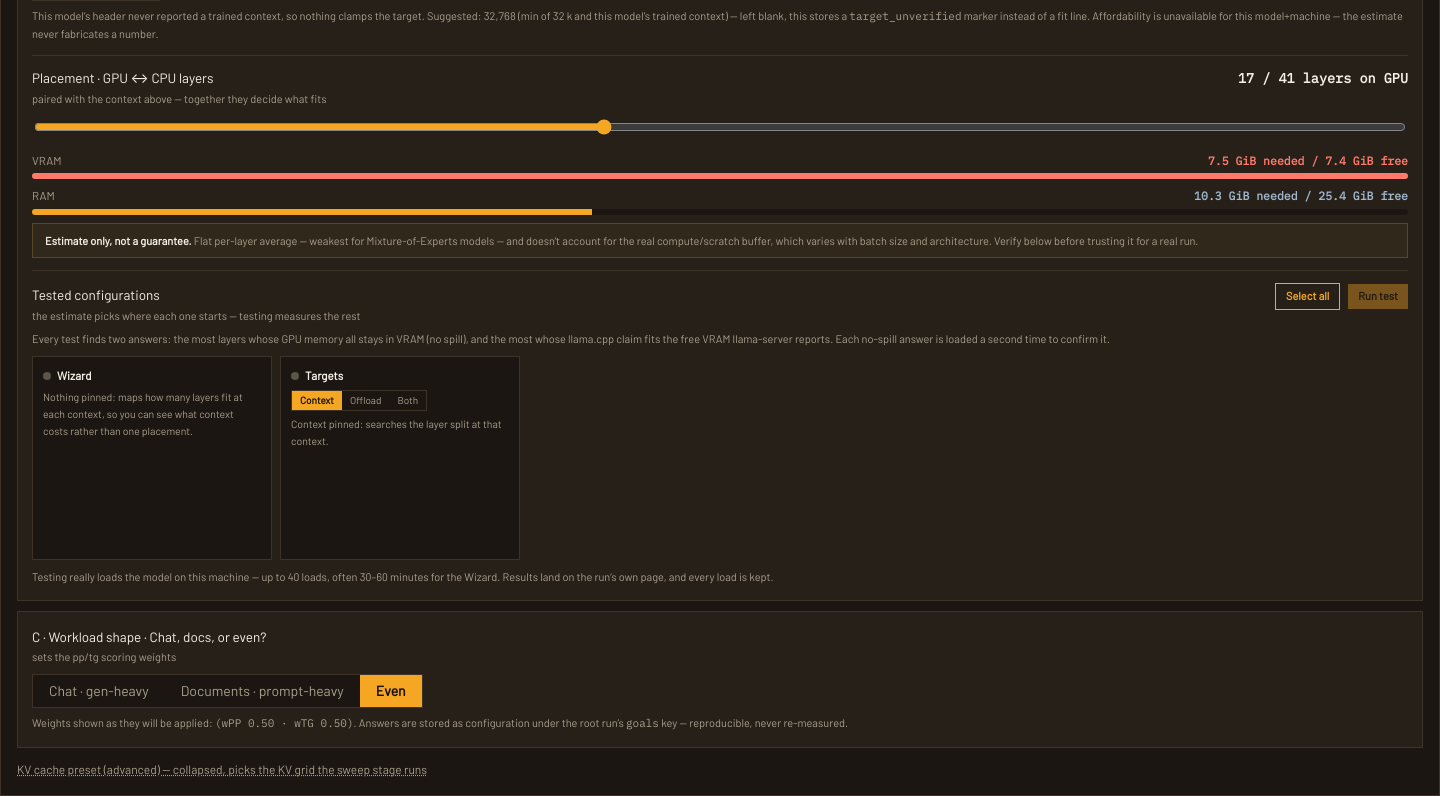
Test: GoalQuestionnaire's Tested-configurations section › selects Wizard on click, applies its starting placement, and enables Run test
(page scrolled)
Click the button "Wizard" at (152, 458), box [32, 356, 272, 560]
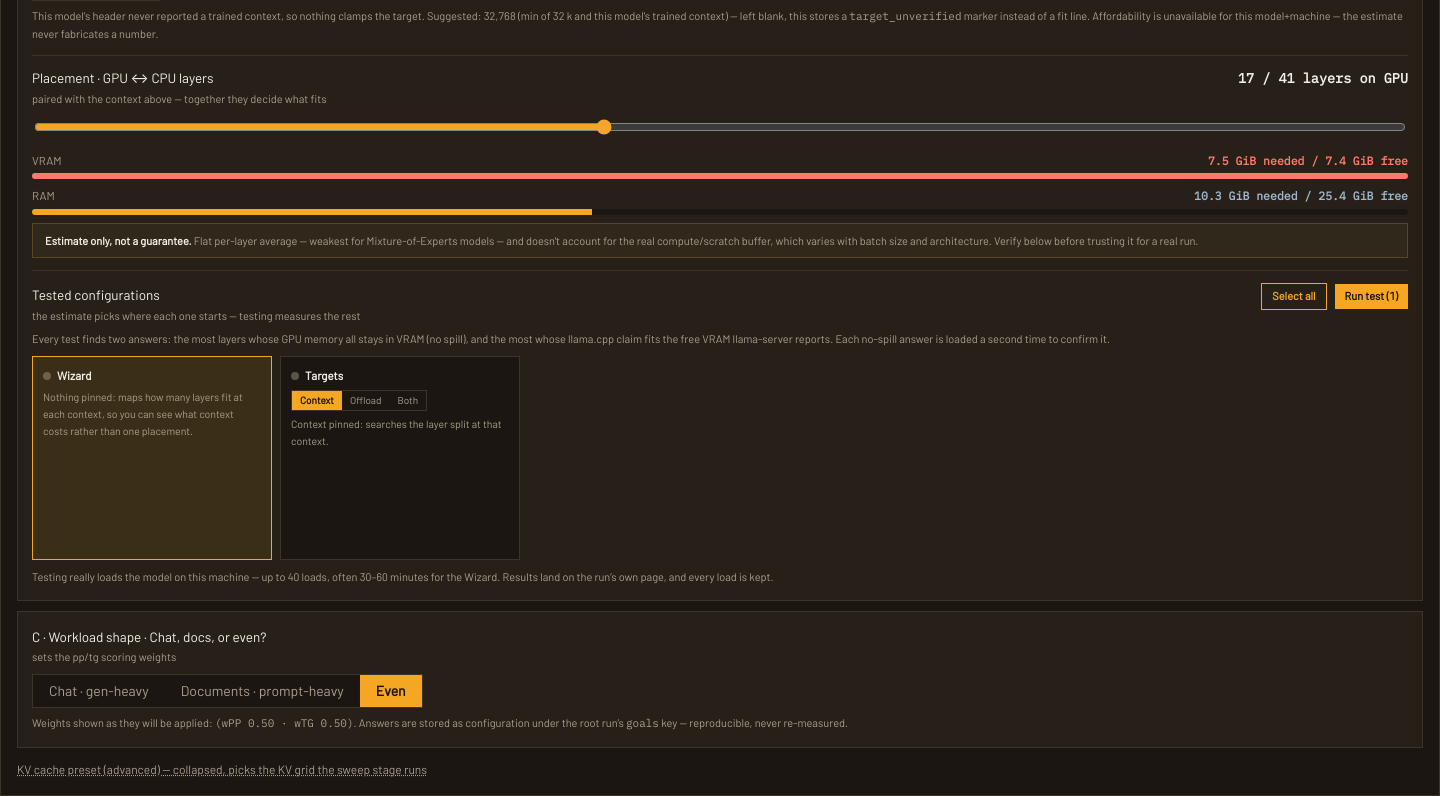
Check: the button "Run test (1)" is enabled, box [1335, 284, 1408, 309]
